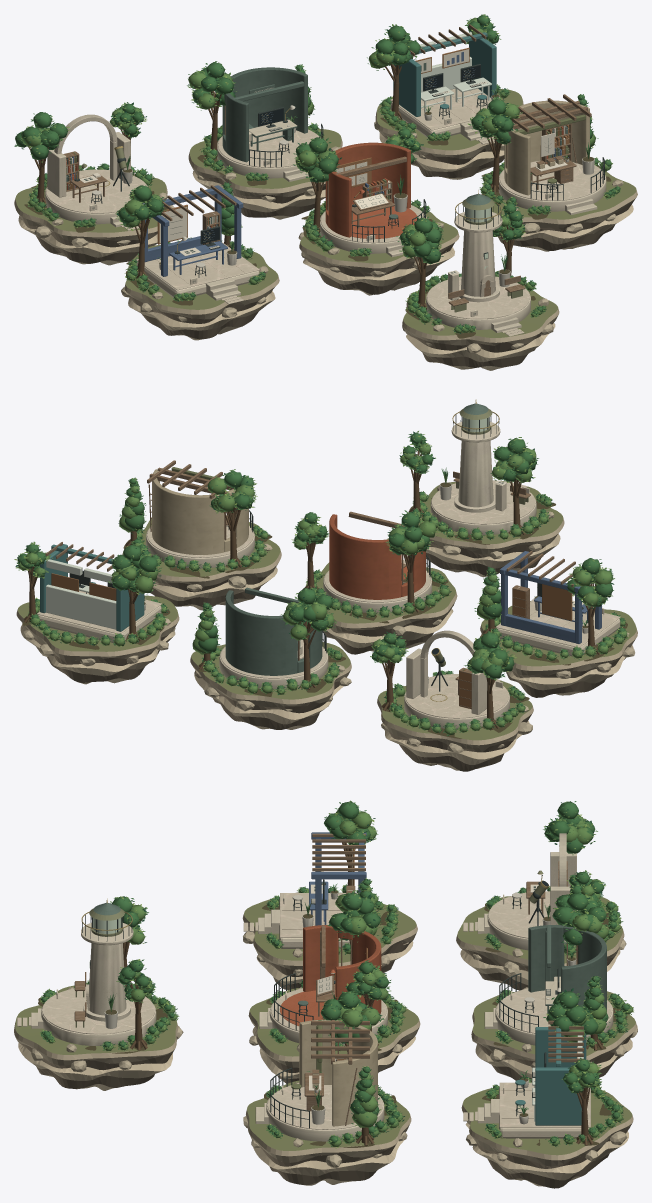
File: archipelago-v7-low.glb
3 renders of one model, top to bottom at view 1: azimuth 30°, elevation 25°; view 2: azimuth 150°, elevation 25°; view 3: azimuth 270°, elevation 25°, orthographic. The views are drawn at different scales.
Visible parts, largest first — view 1: pavilion_evoluir, pavilion_especificar, pavilion_gerar, pavilion_validar, pavilion_comparar, pavilion_perspectivas, pavilion_pesquisa, island_perspectivas_foundation, island_validar_foundation, island_especificar_foundation, island_pesquisa_foundation, island_evoluir_foundation (+21 smaller); view 2: pavilion_evoluir, pavilion_perspectivas, pavilion_comparar, pavilion_validar, pavilion_especificar, pavilion_gerar, pavilion_pesquisa, island_pesquisa_foundation, island_comparar_foundation, island_gerar_foundation, island_validar_foundation, island_perspectivas_foundation (+23 smaller); view 3: pavilion_evoluir, pavilion_perspectivas, pavilion_comparar, pavilion_gerar, island_comparar_foundation, pavilion_especificar, island_perspectivas_foundation, island_evoluir_foundation, pavilion_validar, pavilion_pesquisa, island_gerar_foundation, island_validar_foundation (+22 smaller).
Boxes of the visible parts, box(x1,y1,x2,y2) form: pavilion_evoluir: box(498, 94, 606, 214); pavilion_especificar: box(320, 142, 426, 257); pavilion_gerar: box(217, 67, 323, 181); pavilion_validar: box(136, 185, 259, 304); pavilion_comparar: box(390, 24, 502, 144); pavilion_perspectivas: box(426, 190, 530, 336); pavilion_pesquisa: box(45, 114, 147, 230); island_perspectivas_foundation: box(402, 285, 559, 370); island_validar_foundation: box(121, 245, 279, 340); island_especificar_foundation: box(298, 204, 459, 295); island_pesquisa_foundation: box(14, 175, 174, 265); island_evoluir_foundation: box(481, 167, 637, 251); pavilion_evoluir: box(146, 460, 254, 568); pavilion_perspectivas: box(430, 399, 536, 535); pavilion_comparar: box(37, 542, 161, 642); pavilion_validar: box(495, 551, 620, 656); pavilion_especificar: box(323, 511, 431, 613); pavilion_gerar: box(219, 587, 328, 689); pavilion_pesquisa: box(404, 630, 509, 728); island_pesquisa_foundation: box(377, 679, 533, 771); island_comparar_foundation: box(16, 595, 179, 684); island_gerar_foundation: box(190, 642, 351, 729); island_validar_foundation: box(480, 601, 637, 697); island_perspectivas_foundation: box(418, 480, 564, 577); pavilion_evoluir: box(255, 1019, 384, 1141); pavilion_perspectivas: box(17, 898, 156, 1045); pavilion_comparar: box(463, 1020, 590, 1138); pavilion_gerar: box(484, 925, 613, 1045); island_comparar_foundation: box(461, 1088, 633, 1188); pavilion_especificar: box(259, 925, 387, 1045); island_perspectivas_foundation: box(14, 985, 183, 1090); island_evoluir_foundation: box(243, 1080, 411, 1185); pavilion_validar: box(243, 832, 366, 948); pavilion_pesquisa: box(463, 833, 602, 950); island_gerar_foundation: box(471, 991, 637, 1081); island_validar_foundation: box(242, 892, 417, 989).
Size of the model in its own units: 26.91 by 8.75 by 26.71.
35 materials, 8 textured.
